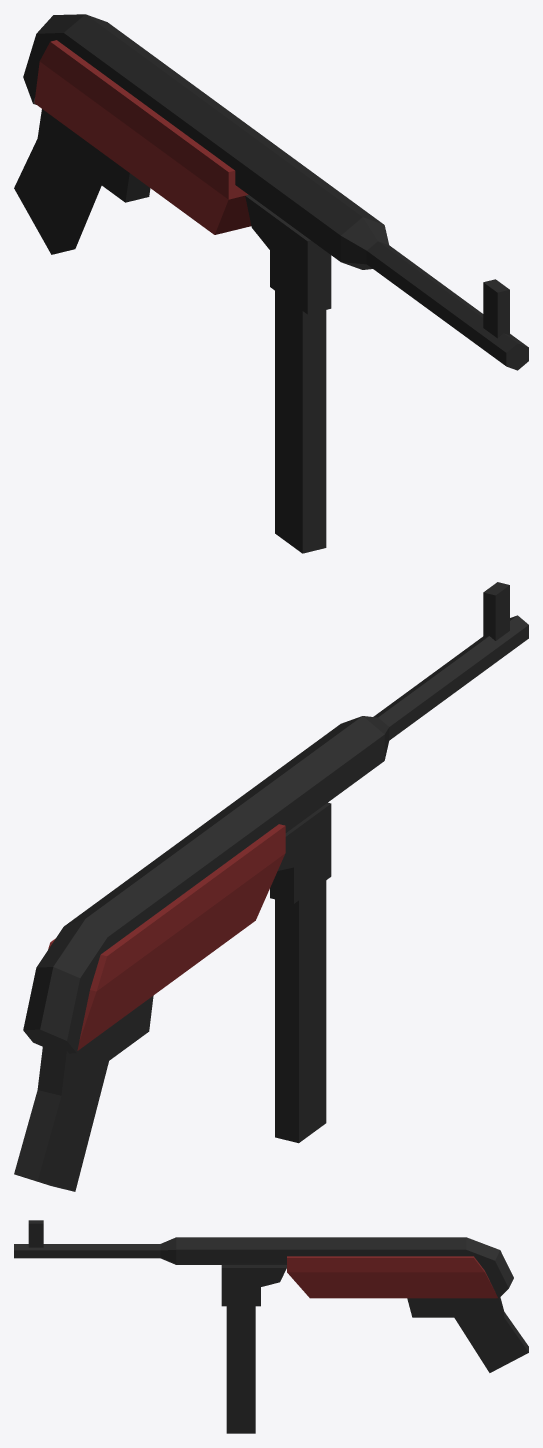
The picture shows the model from 3 angles, top to bottom: view 1: azimuth 30°, elevation 25°; view 2: azimuth 150°, elevation 25°; view 3: azimuth 270°, elevation 25°; orthographic projection. The views are drawn at different scales.
Parts seen in each view (by area): view 1: mp40; view 2: mp40; view 3: mp40.
Boxes of the visible parts, x1,y1,x2,y2 form: mp40: (14,14,528,553); mp40: (14,582,528,1191); mp40: (14,1220,528,1433).
Size of the model in its own units: 0.0431 by 0.2885 by 0.646.
Materials: 1 (1 with a texture image).
